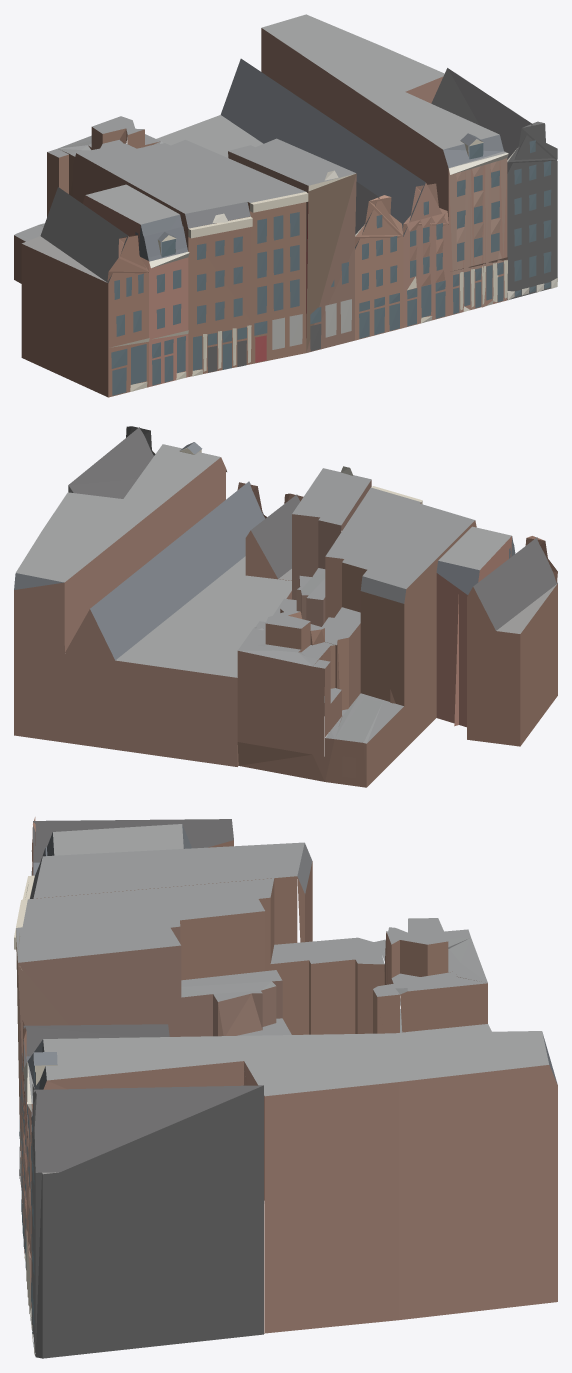
Rendered from chunk-face-wallen-oza-41-57.lod2.glb.
3 views of the same model, one above another, from view 1: azimuth 30°, elevation 25°; view 2: azimuth 150°, elevation 25°; view 3: azimuth 270°, elevation 25° (orthographic). The views are drawn at different scales.
Visible parts, largest first — view 1: lod2; view 2: lod2; view 3: lod2.
Boxes of the visible parts, box(x1,y1,x2,y2) form: lod2: box(14, 14, 557, 397); lod2: box(14, 426, 557, 787); lod2: box(14, 817, 557, 1358).
Bounding box in the file's own units: 48.63 × 17.15 × 32.82.
